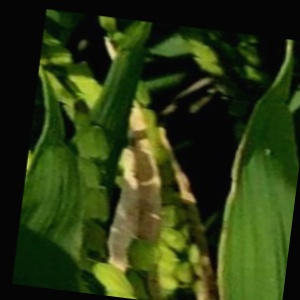Leaf_Blast: (218, 127, 300, 300)
